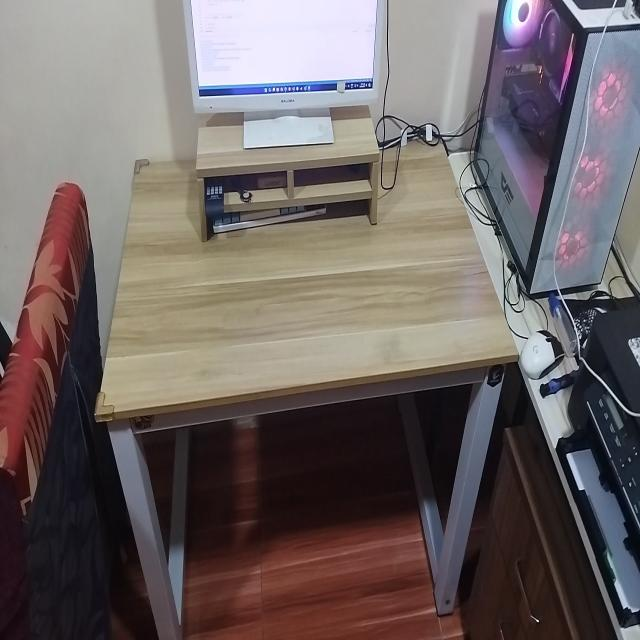table: (102, 141, 508, 640)
